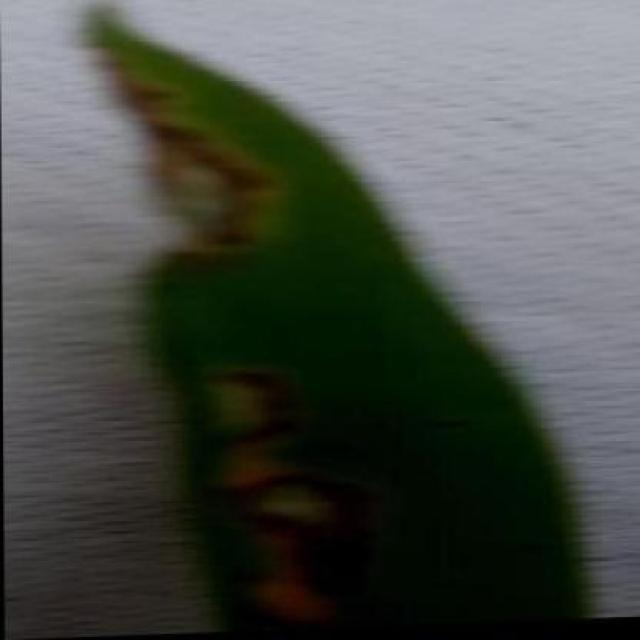Bacterial_Leaf_Blight: (102, 70, 293, 262), (185, 375, 382, 553), (195, 564, 399, 638), (208, 549, 382, 613)
